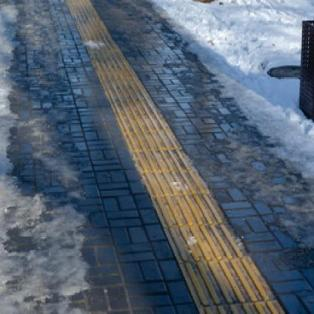Podoctatil: (47, 0, 299, 314)
